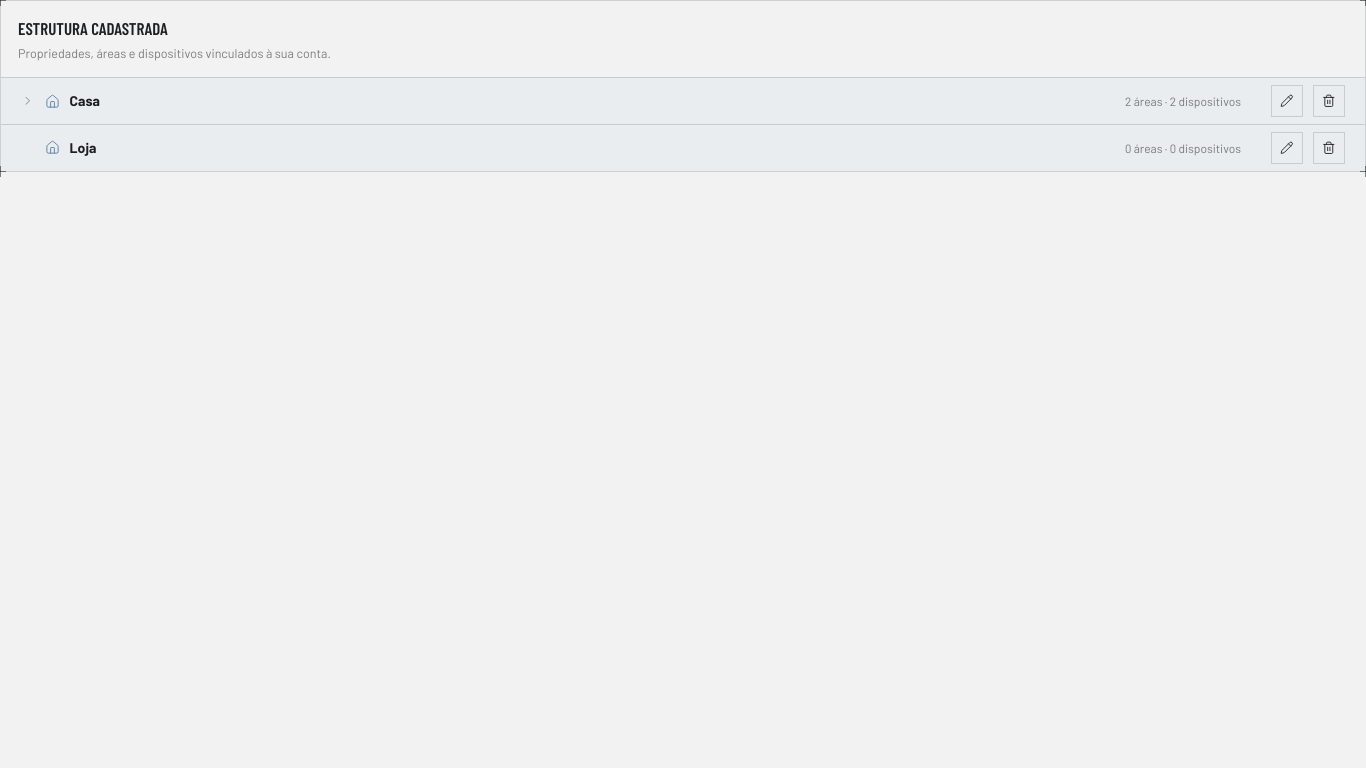
RegistrationTree — editar › edita a área, salva e recarrega a árvore
Click the button "Casa 2 áreas · 2 dispositivos".
click(85, 101)  # box [1,78,1261,124]
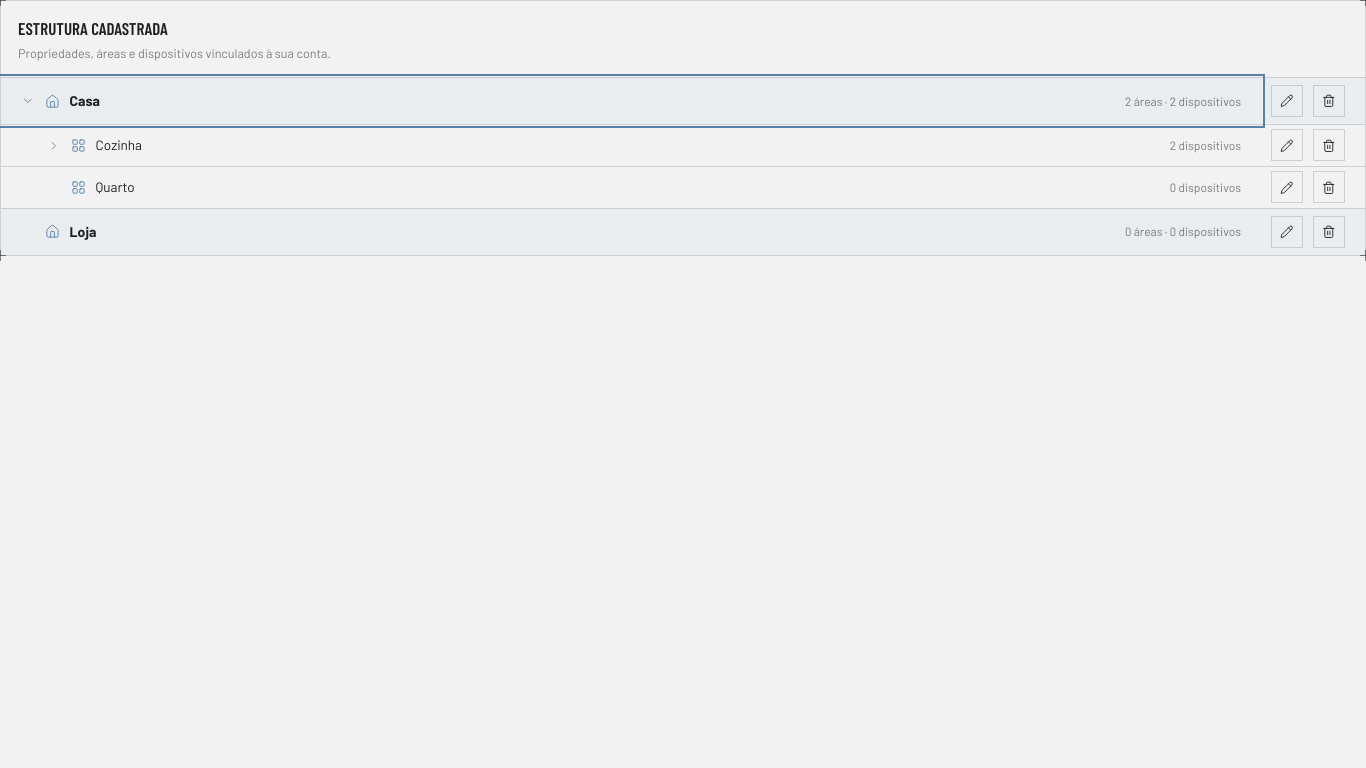
Click the button named "Editar área Cozinha".
click(1287, 145)  # box [1271,129,1303,161]
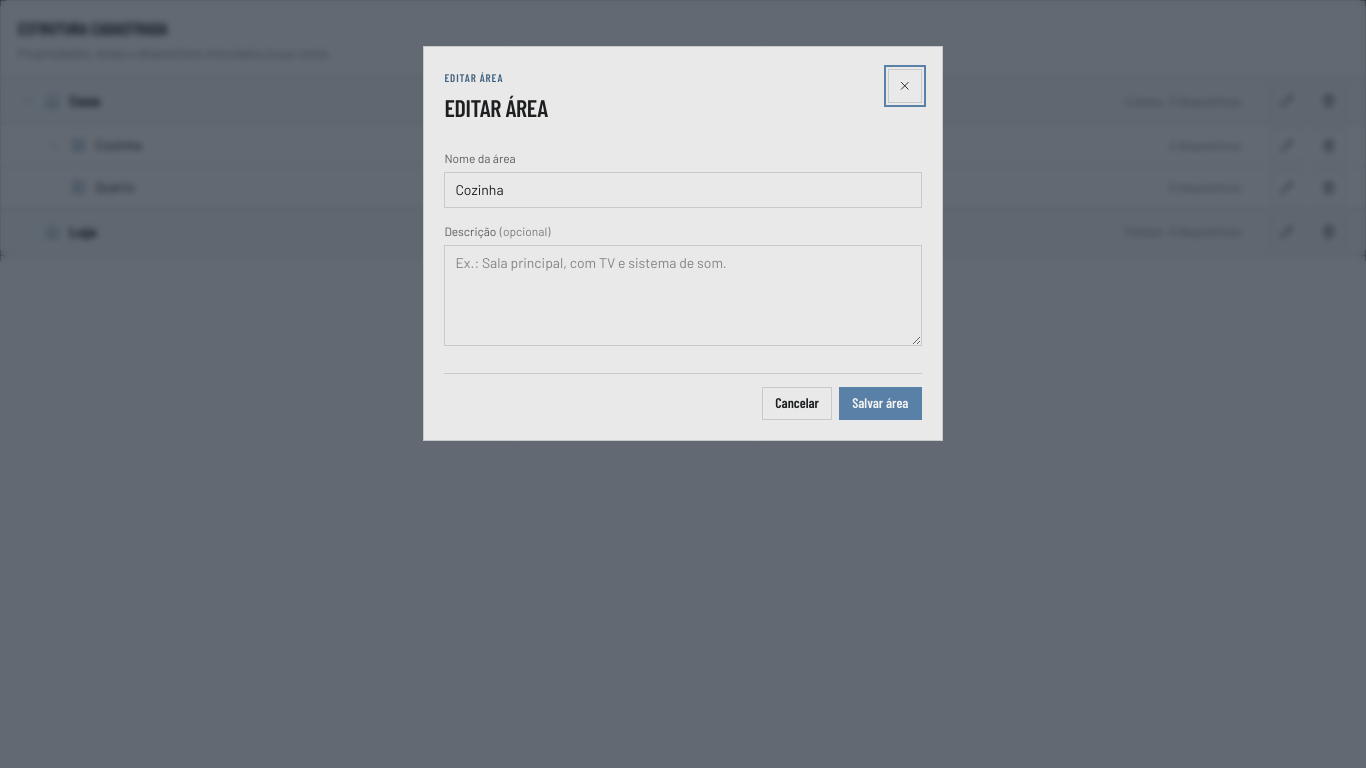
Replace the text in the field labelled "Nome da área" with "Cozinha nova" at (683, 190), box [444,172,922,208]
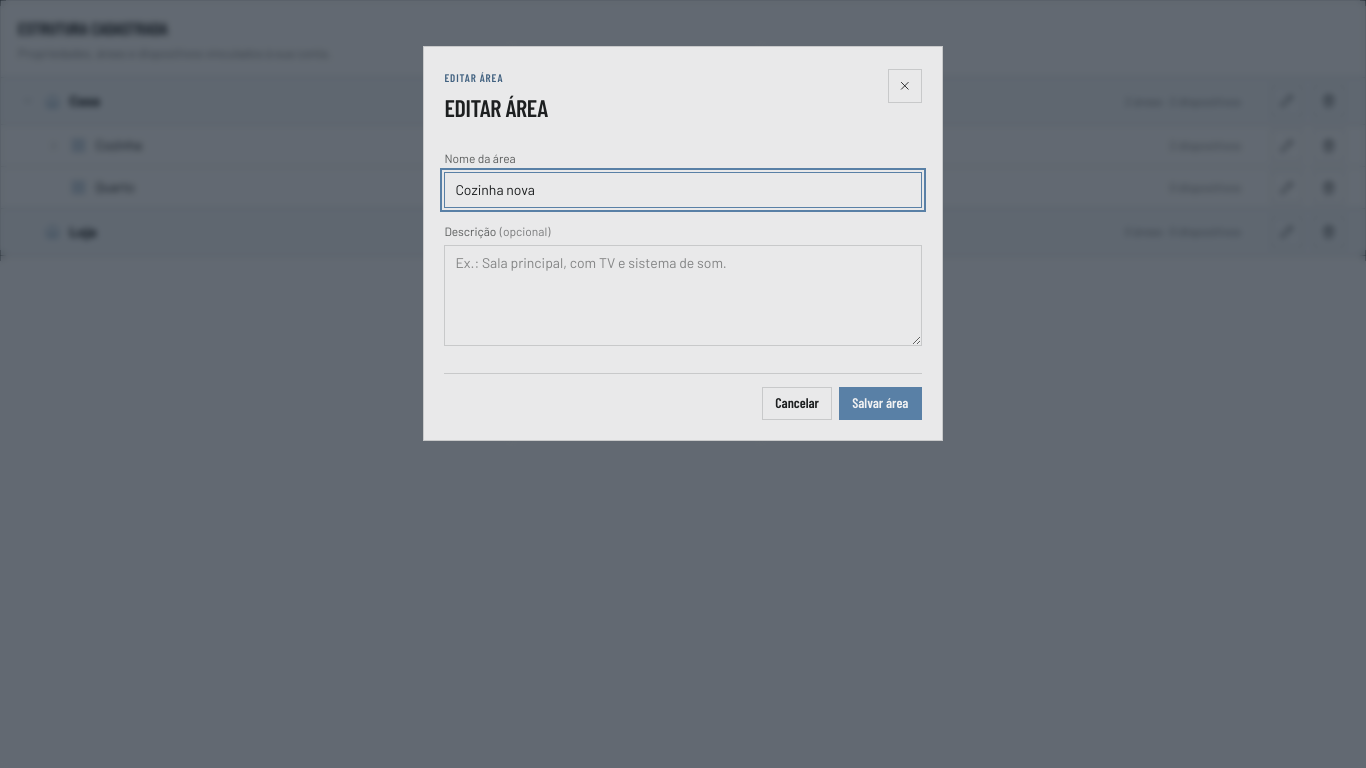
Click the button "Salvar área".
click(880, 404)  # box [839,387,922,420]
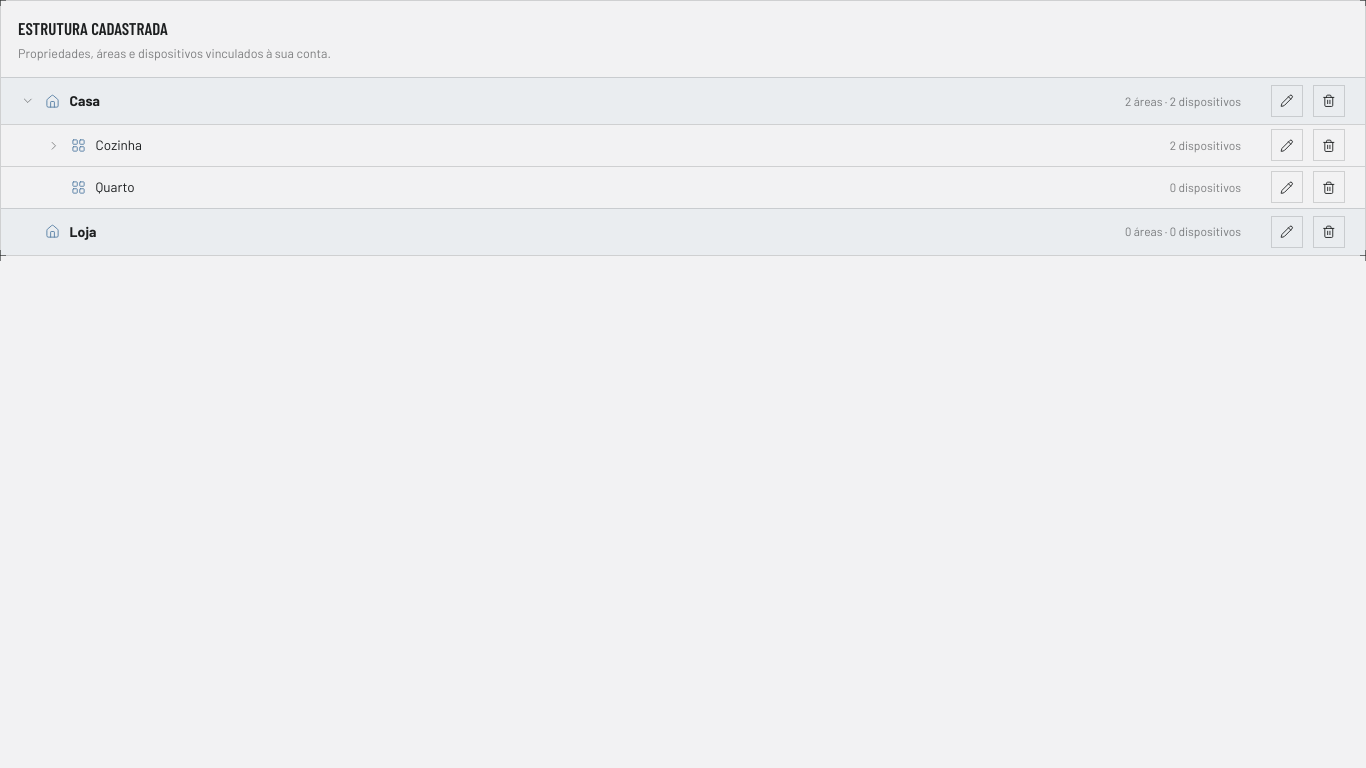
Now the dialog is gone
